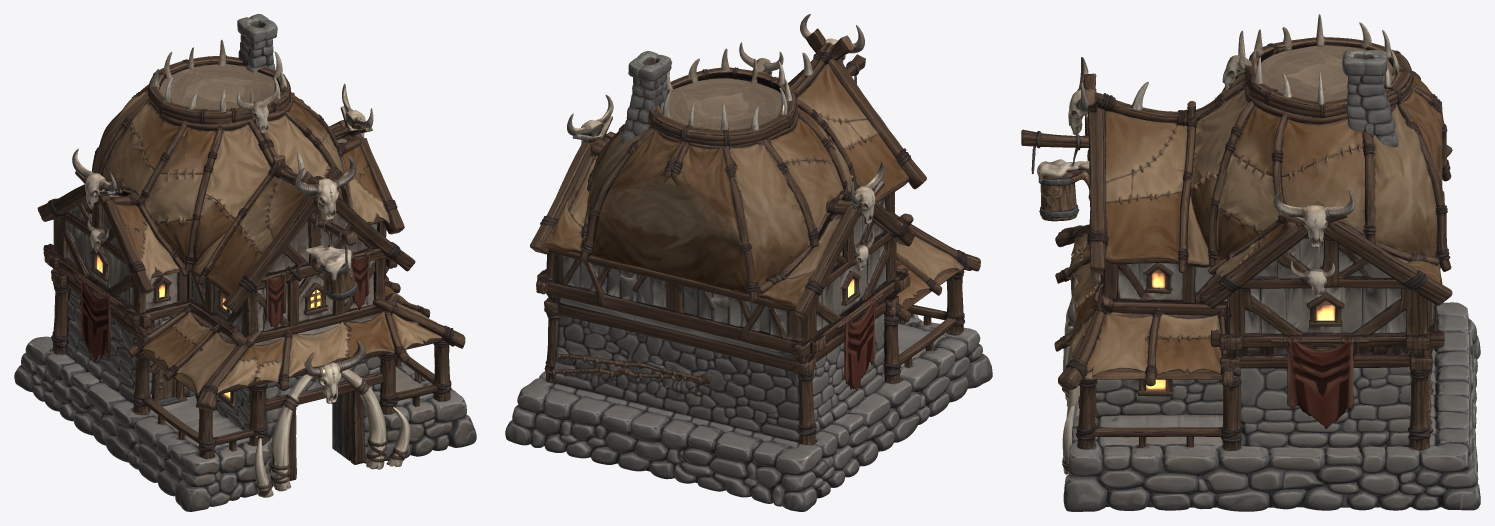
File: TrollGrogHall_300k.glb
3 views of the same model, side by side, from view 1: azimuth 30°, elevation 25°; view 2: azimuth 150°, elevation 25°; view 3: azimuth 270°, elevation 25° (orthographic). The views are drawn at different scales.
Parts seen in each view (by area): view 1: Mesh_0; view 2: Mesh_0; view 3: Mesh_0.
Boxes of the visible parts, left/top/right/bottom form: Mesh_0: left=14, top=14, right=476, bottom=511; Mesh_0: left=505, top=14, right=992, bottom=511; Mesh_0: left=1021, top=14, right=1480, bottom=511.
Size of the model in its own units: 1.6 by 1.87 by 1.89.
Materials: 1 (1 with a texture image).
